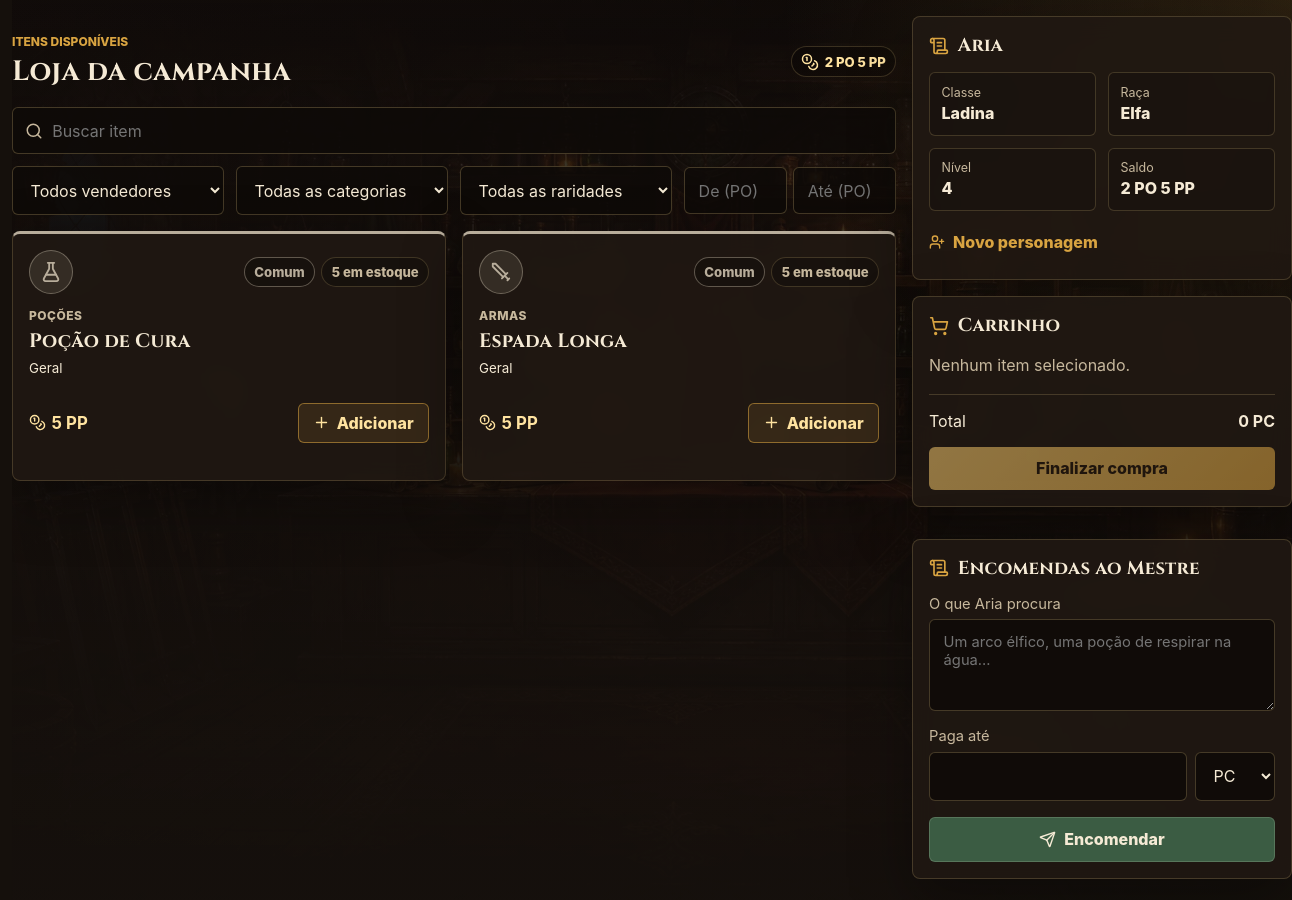
ShopPage › uma busca antiga que responde depois não substitui o resultado da busca atual
This screenshot has width=1292, height=900.
Type "espada" into the field with placeholder "Buscar item" at (454, 131), box top-left (12, 107), bottom-right (896, 154)
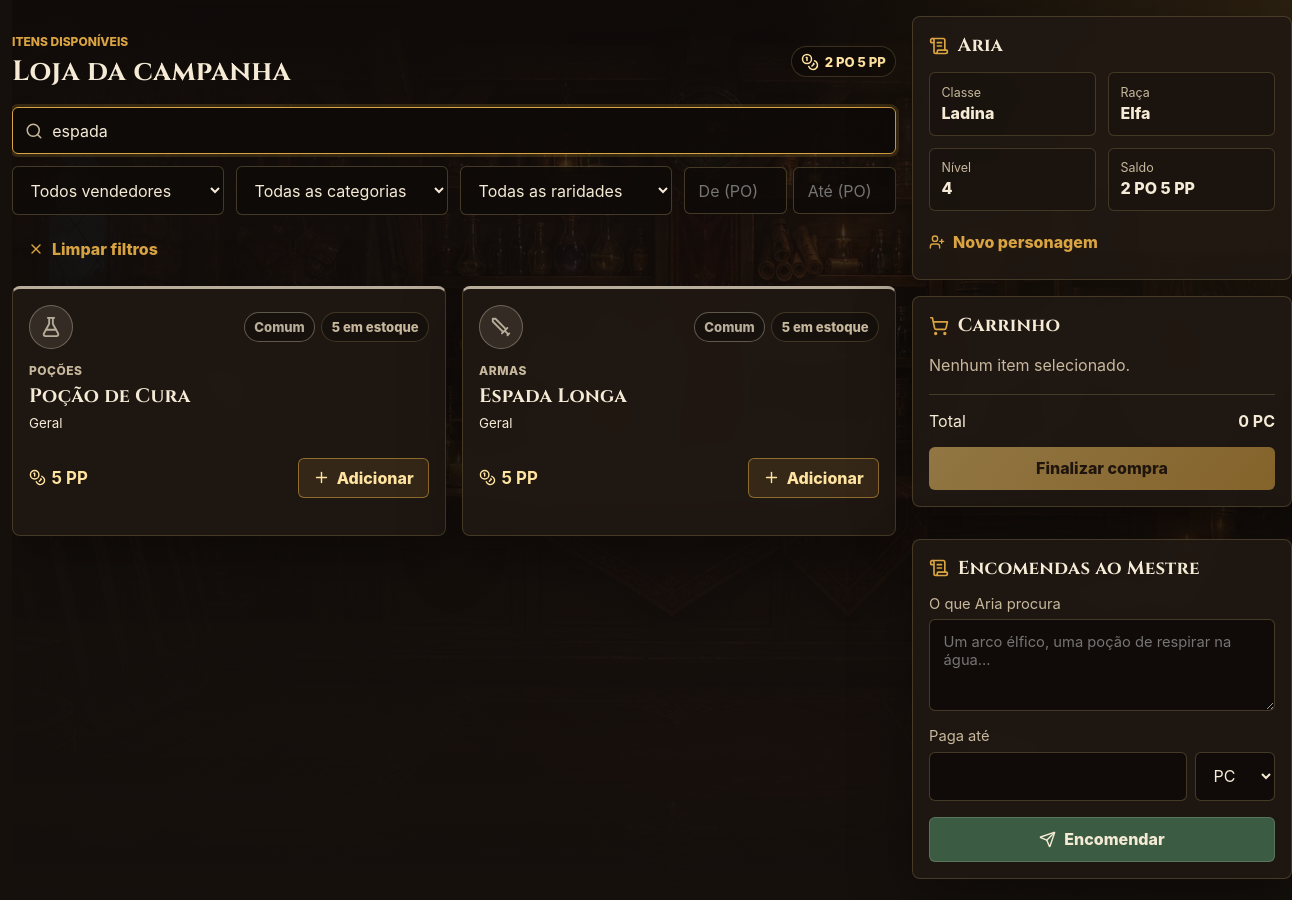
Replace the text in the field with placeholder "Buscar item" with "pocao" at (454, 131), box top-left (12, 107), bottom-right (896, 154)
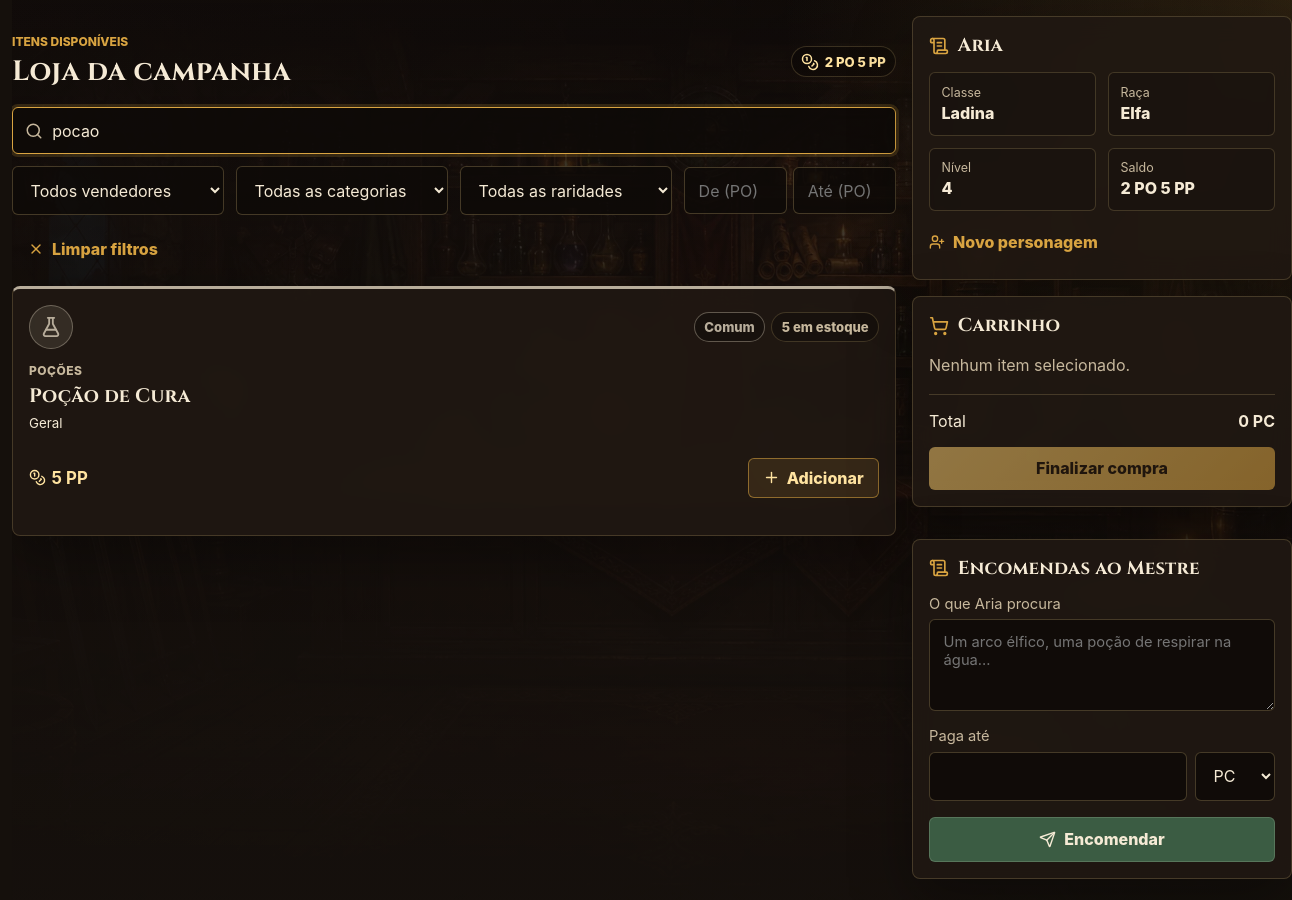
Expected: the heading "Poção de Cura" is shown, top-left (29, 383), bottom-right (191, 409)
Expected: the heading "Espada Longa" is gone
